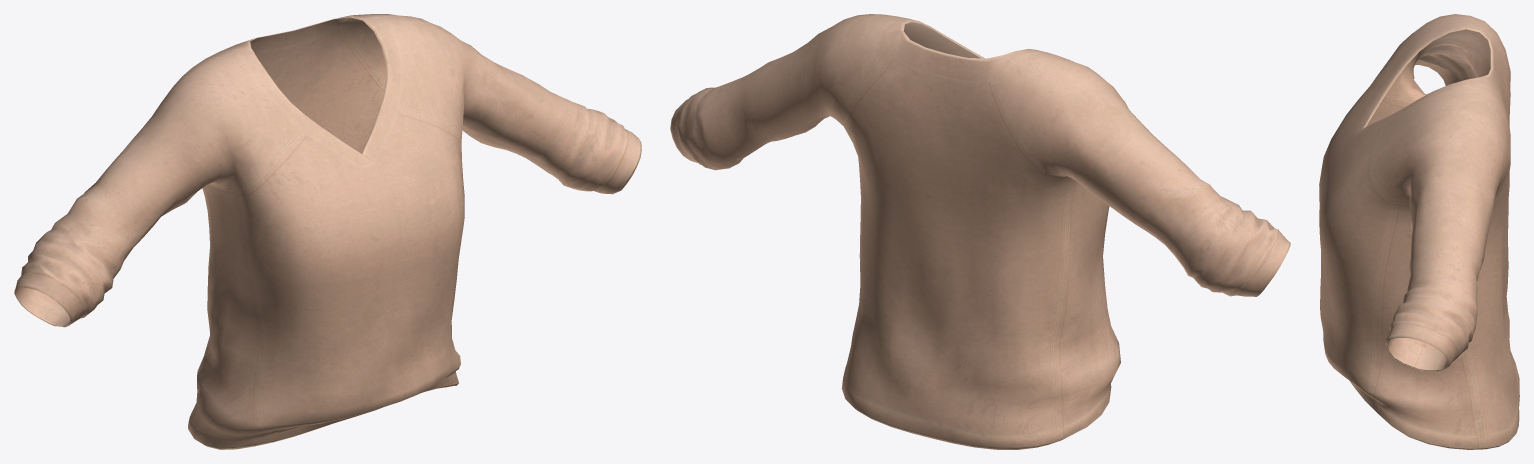
File: shirt3.glb
The picture shows the model from 3 angles, left to right: view 1: azimuth 30°, elevation 25°; view 2: azimuth 150°, elevation 25°; view 3: azimuth 270°, elevation 25°; orthographic projection. The views are drawn at different scales.
Parts seen in each view (by area): view 1: sub_lvl_2:ZBrush_defualt_group; view 2: sub_lvl_2:ZBrush_defualt_group; view 3: sub_lvl_2:ZBrush_defualt_group.
Part boxes in pixels (box(x1,y1,x2,y2)): sub_lvl_2:ZBrush_defualt_group: box(14, 14, 641, 449); sub_lvl_2:ZBrush_defualt_group: box(670, 14, 1290, 449); sub_lvl_2:ZBrush_defualt_group: box(1319, 14, 1519, 449).
Bounding box in the file's own units: 2 × 1.2 × 0.6112.
1 material, 1 textured.
